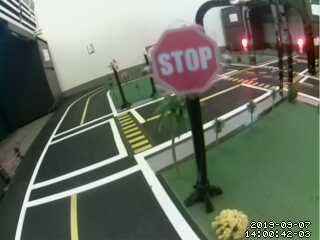Stop_Sign: (140, 21, 228, 99)
